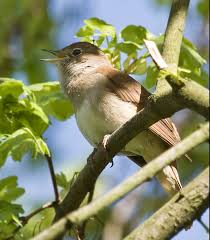соловей: (32, 31, 203, 234)
